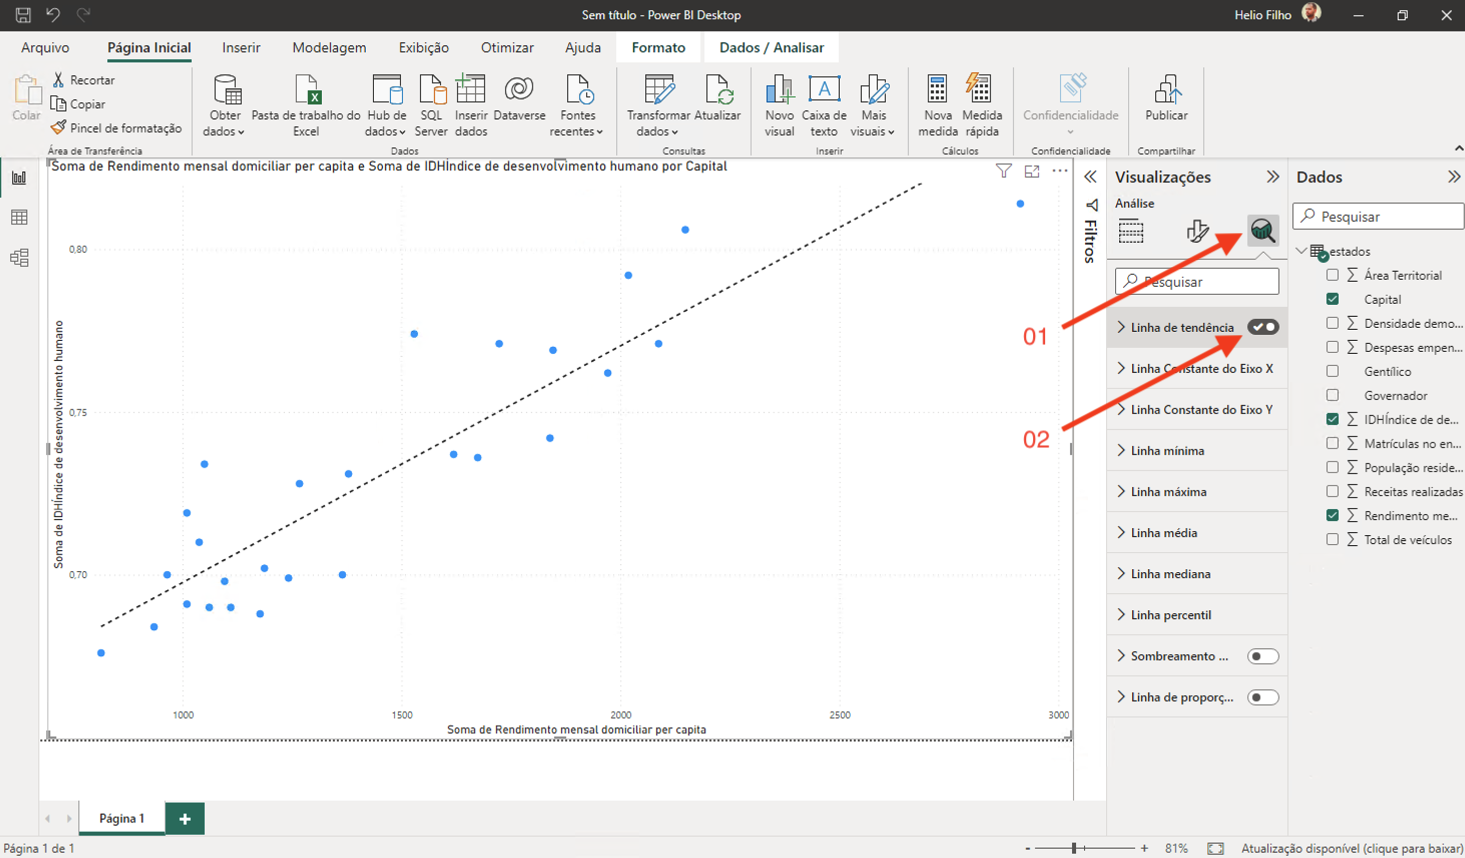

The dashboard page shown, as its layout file describes it:
{"tool":"powerbi","page":{"name":"Página 1","canvas":[1280,720],"ordinal":0},"visuals":[{"type":"scatterChart","fields":{"Category":["estados.Capital"],"Y":["Sum(estados.IDHÍndice de desenvolvimento humano)"],"X":["Sum(estados.Rendimento mensal domiciliar per capita)"]},"box":[9.9,0,1270.1,720.6],"z":0}]}

Visuals, with their boxes on the page's 1280x720 design canvas (x1, y1, x2, y2). These are canvas units, not pixel positions in the 1465x858 screenshot, which may show the page scaled, cropped or inside an application window:
scatterChart - estados.Capital x Sum(estados.IDHÍndice de desenvolvimento humano): (left=10, top=0, right=1280, bottom=721)
